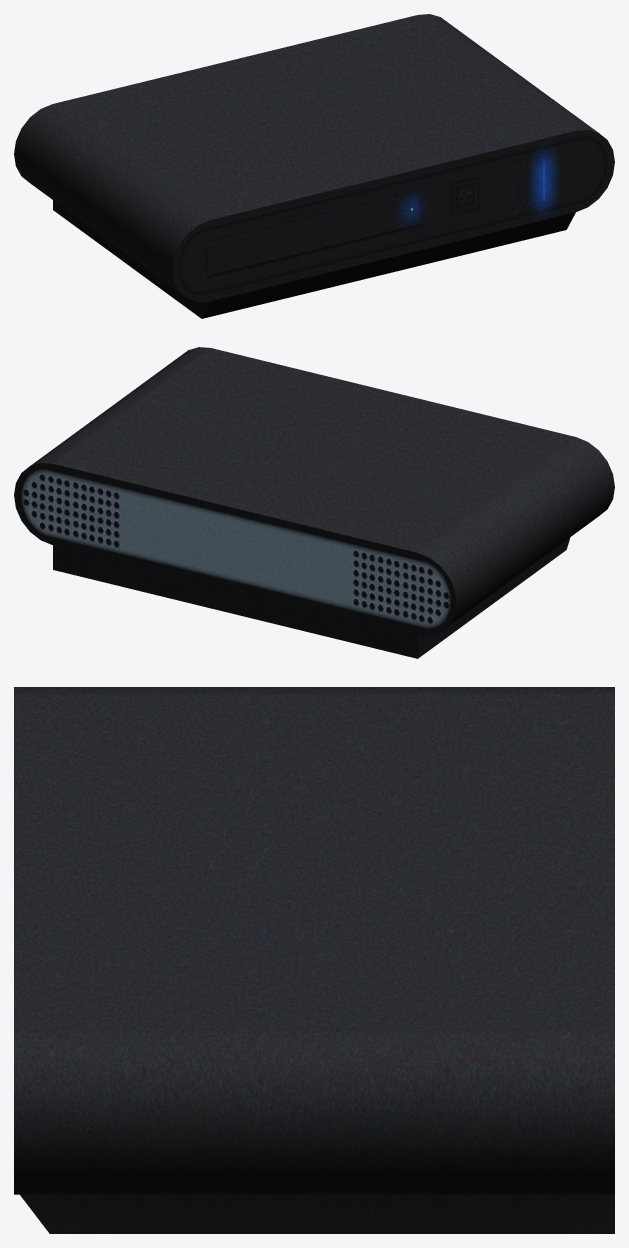
The model's file is Sun_0062_Games_console.fbx.
3 views of the same model, one above another, from view 1: azimuth 30°, elevation 25°; view 2: azimuth 150°, elevation 25°; view 3: azimuth 270°, elevation 25° (orthographic). The views are drawn at different scales.
Visible parts, largest first — view 1: Sun_0062_Games_console; view 2: Sun_0062_Games_console; view 3: Sun_0062_Games_console.
Part boxes in pixels (<box>): Sun_0062_Games_console: <box>14,14,614,318</box>; Sun_0062_Games_console: <box>14,347,614,658</box>; Sun_0062_Games_console: <box>14,687,614,1233</box>.
Bounding box in the file's own units: 44.91 × 10.28 × 27.81.
